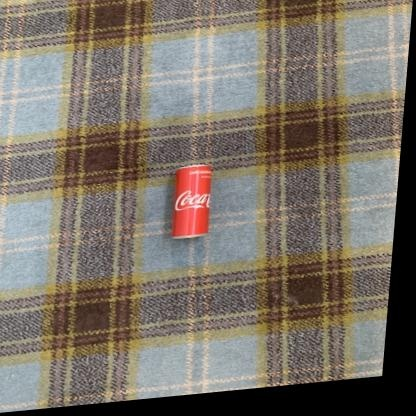trash: (171, 165, 211, 237)
